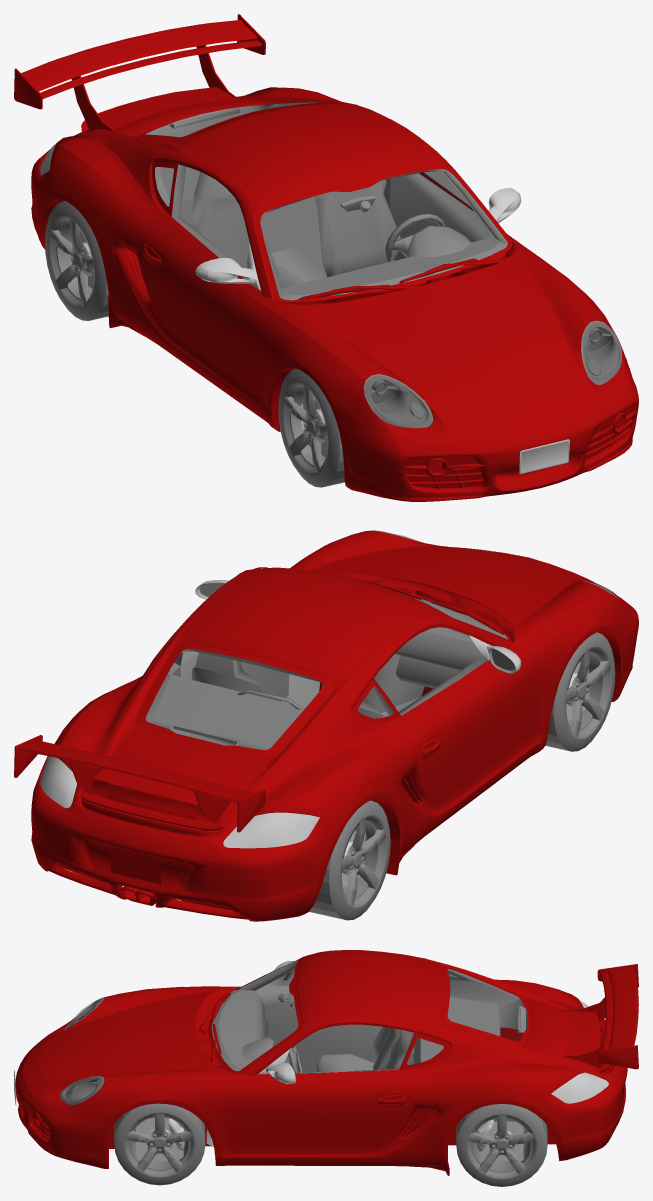
The model's file is porsche-cayman.obj.
3 views of the same model, one above another, from view 1: azimuth 30°, elevation 25°; view 2: azimuth 150°, elevation 25°; view 3: azimuth 270°, elevation 25° (orthographic). The views are drawn at different scales.
Parts seen in each view (by area): view 1: Body, Base_Detached, Interior, Hood, Base, SuperSpoiler, TireFR, TireRR, USpoiler, Spoiler, HLightR, HLightRG (+5 smaller); view 2: Body, Base, Base_Detached, Interior, Spoiler, Hood, USpoiler, TireRR, TireFR, SuperSpoiler, BLightR, BLightL (+1 smaller); view 3: Body, Base, Base_Detached, Interior, Hood, TireRL, TireFL, Spoiler, SuperSpoiler, USpoiler, BLightL, BrakeFL (+4 smaller).
Part boxes in pixels (x1,y1,x2,y2): Body: (31, 87, 638, 501); Base_Detached: (146, 102, 507, 299); Interior: (146, 102, 507, 300); Hood: (311, 256, 579, 420); Base: (105, 102, 515, 304); SuperSpoiler: (14, 14, 265, 109); TireFR: (278, 368, 344, 487); TireRR: (45, 201, 108, 320); USpoiler: (71, 45, 354, 148); Spoiler: (84, 96, 354, 150); HLightR: (364, 374, 433, 428); HLightRG: (365, 375, 431, 427); Body: (31, 530, 638, 921); Base: (104, 567, 515, 777); Base_Detached: (146, 582, 507, 749); Interior: (145, 599, 507, 749); Spoiler: (85, 629, 356, 826); Hood: (314, 546, 579, 621); USpoiler: (69, 629, 355, 824); TireRR: (309, 800, 390, 920); TireFR: (545, 632, 615, 751); SuperSpoiler: (14, 735, 265, 832); BLightR: (223, 812, 319, 848); BLightL: (40, 756, 76, 808); Body: (15, 951, 627, 1175); Base: (194, 950, 536, 1075); Base_Detached: (212, 960, 527, 1072); Interior: (206, 960, 527, 1146); Hood: (39, 992, 213, 1083); TireRL: (456, 1104, 547, 1186); TireFL: (114, 1103, 205, 1185); Spoiler: (426, 959, 597, 1070); SuperSpoiler: (597, 964, 638, 1069); USpoiler: (426, 959, 605, 1070); BLightL: (551, 1072, 608, 1103); BrakeFL: (136, 1118, 184, 1161).
Size of the model in its own units: 1.27 by 0.8171 by 2.88.
